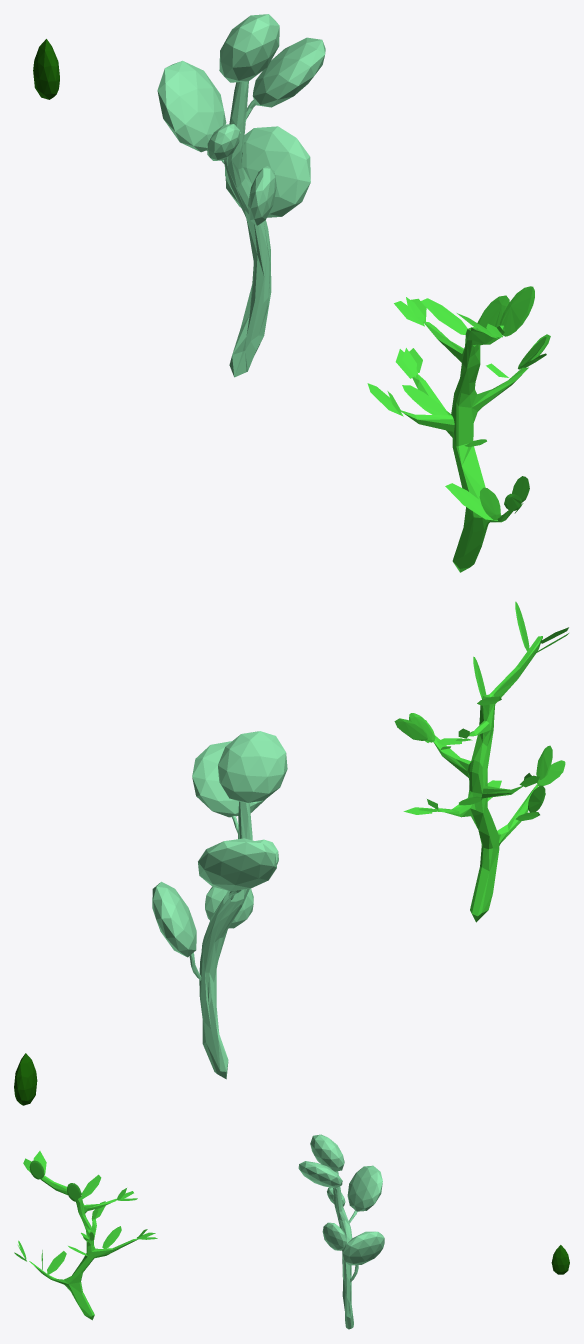
The model's file is Plants_set_001 1.fbx.
The picture shows the model from 3 angles, top to bottom: view 1: azimuth 30°, elevation 25°; view 2: azimuth 150°, elevation 25°; view 3: azimuth 270°, elevation 25°; orthographic projection. The views are drawn at different scales.
Visible parts, largest first — view 1: Plant_002, Plant_001, Seed_001; view 2: Plant_002, Plant_001, Seed_001; view 3: Plant_002, Plant_001, Seed_001.
Boxes of the visible parts, box(x1,y1,x2,y2) form: Plant_002: box(157, 14, 325, 377); Plant_001: box(367, 286, 550, 572); Seed_001: box(33, 39, 59, 99); Plant_002: box(152, 731, 287, 1079); Plant_001: box(394, 601, 568, 922); Seed_001: box(14, 1053, 37, 1105); Plant_002: box(298, 1134, 384, 1329); Plant_001: box(14, 1151, 157, 1320); Seed_001: box(551, 1245, 569, 1274).
Size of the model in its own units: 81.7 by 158 by 414.
